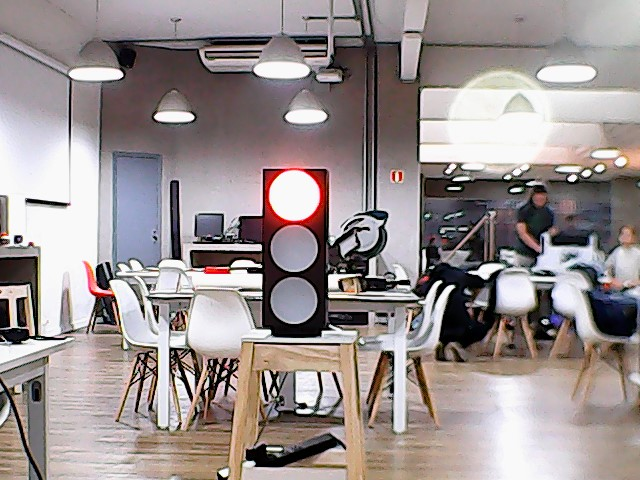vermelho: (255, 163, 329, 336)
